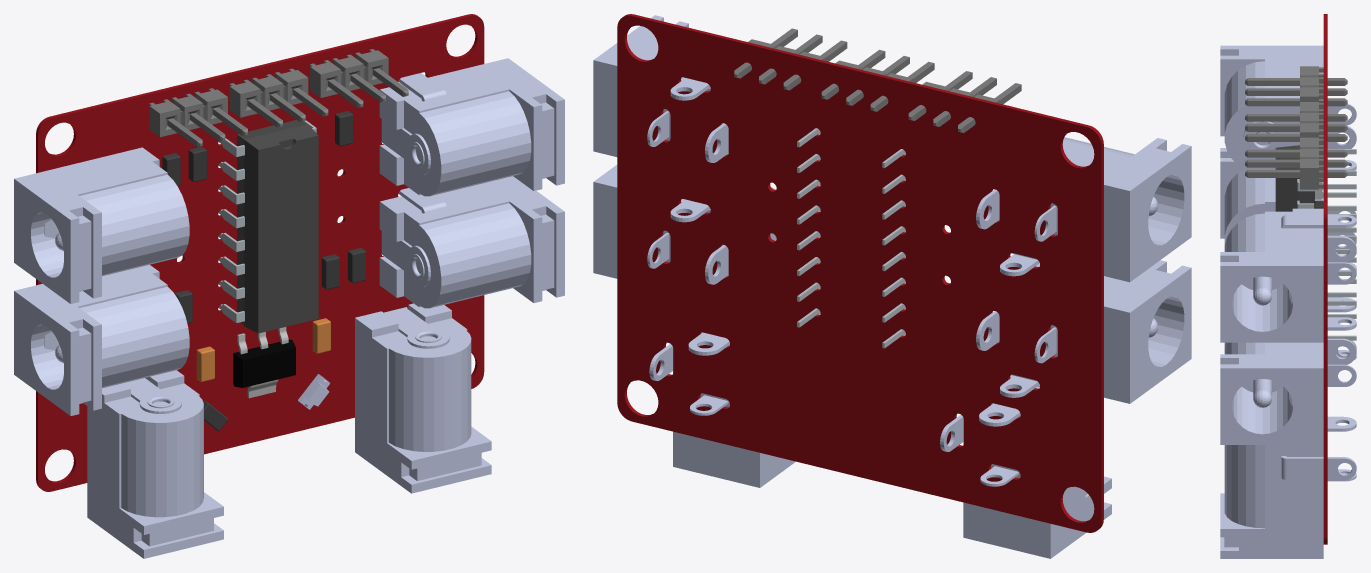
The model's file is board-3-L293D.glb.
The picture shows the model from 3 angles, left to right: view 1: azimuth 30°, elevation 25°; view 2: azimuth 150°, elevation 25°; view 3: azimuth 270°, elevation 25°; orthographic projection. The views are drawn at different scales.
Visible parts, largest first — view 1: PCB, NAUO1_1, NAUO1_4, NAUO1_3, NAUO1_6, NAUO1_2, NAUO1_5, =>[0:1:1:2], =>[0:1:1:3], NAUO2; view 2: PCB, NAUO1_2, NAUO1_5, NAUO1_6, NAUO1_4, NAUO1_1, NAUO1_3, =>[0:1:1:3]; view 3: NAUO1_1, NAUO1_4, NAUO1_3, PCB, NAUO1_2, NAUO1_5, =>[0:1:1:3], =>[0:1:1:2], NAUO1_6.
Boxes of the visible parts, x1,y1,x2,y2 form: PCB: (36,14,484,491); NAUO1_1: (379,58,564,196); NAUO1_4: (355,303,491,493); NAUO1_3: (379,176,564,308); NAUO1_6: (87,370,223,558); NAUO1_2: (14,147,189,303); NAUO1_5: (14,264,189,415); =>[0:1:1:2]: (237,120,318,333); =>[0:1:1:3]: (218,120,316,322); NAUO2: (233,339,295,387); PCB: (617,14,1103,532); NAUO1_2: (976,137,1191,282); NAUO1_5: (976,260,1191,403); NAUO1_6: (940,375,1111,558); NAUO1_4: (649,332,795,487); NAUO1_1: (593,15,728,162); NAUO1_3: (593,165,776,284); =>[0:1:1:3]: (797,128,905,348); NAUO1_1: (1220,208,1356,342); NAUO1_4: (1220,416,1356,558); NAUO1_3: (1220,317,1356,444); PCB: (1245,14,1347,544); NAUO1_2: (1220,45,1356,170); NAUO1_5: (1220,148,1356,270); =>[0:1:1:3]: (1297,149,1356,340); =>[0:1:1:2]: (1275,145,1314,211); NAUO1_6: (1224,297,1356,359).
Size of the model in its own units: 0.0554 by 0.0437 by 0.0145.
